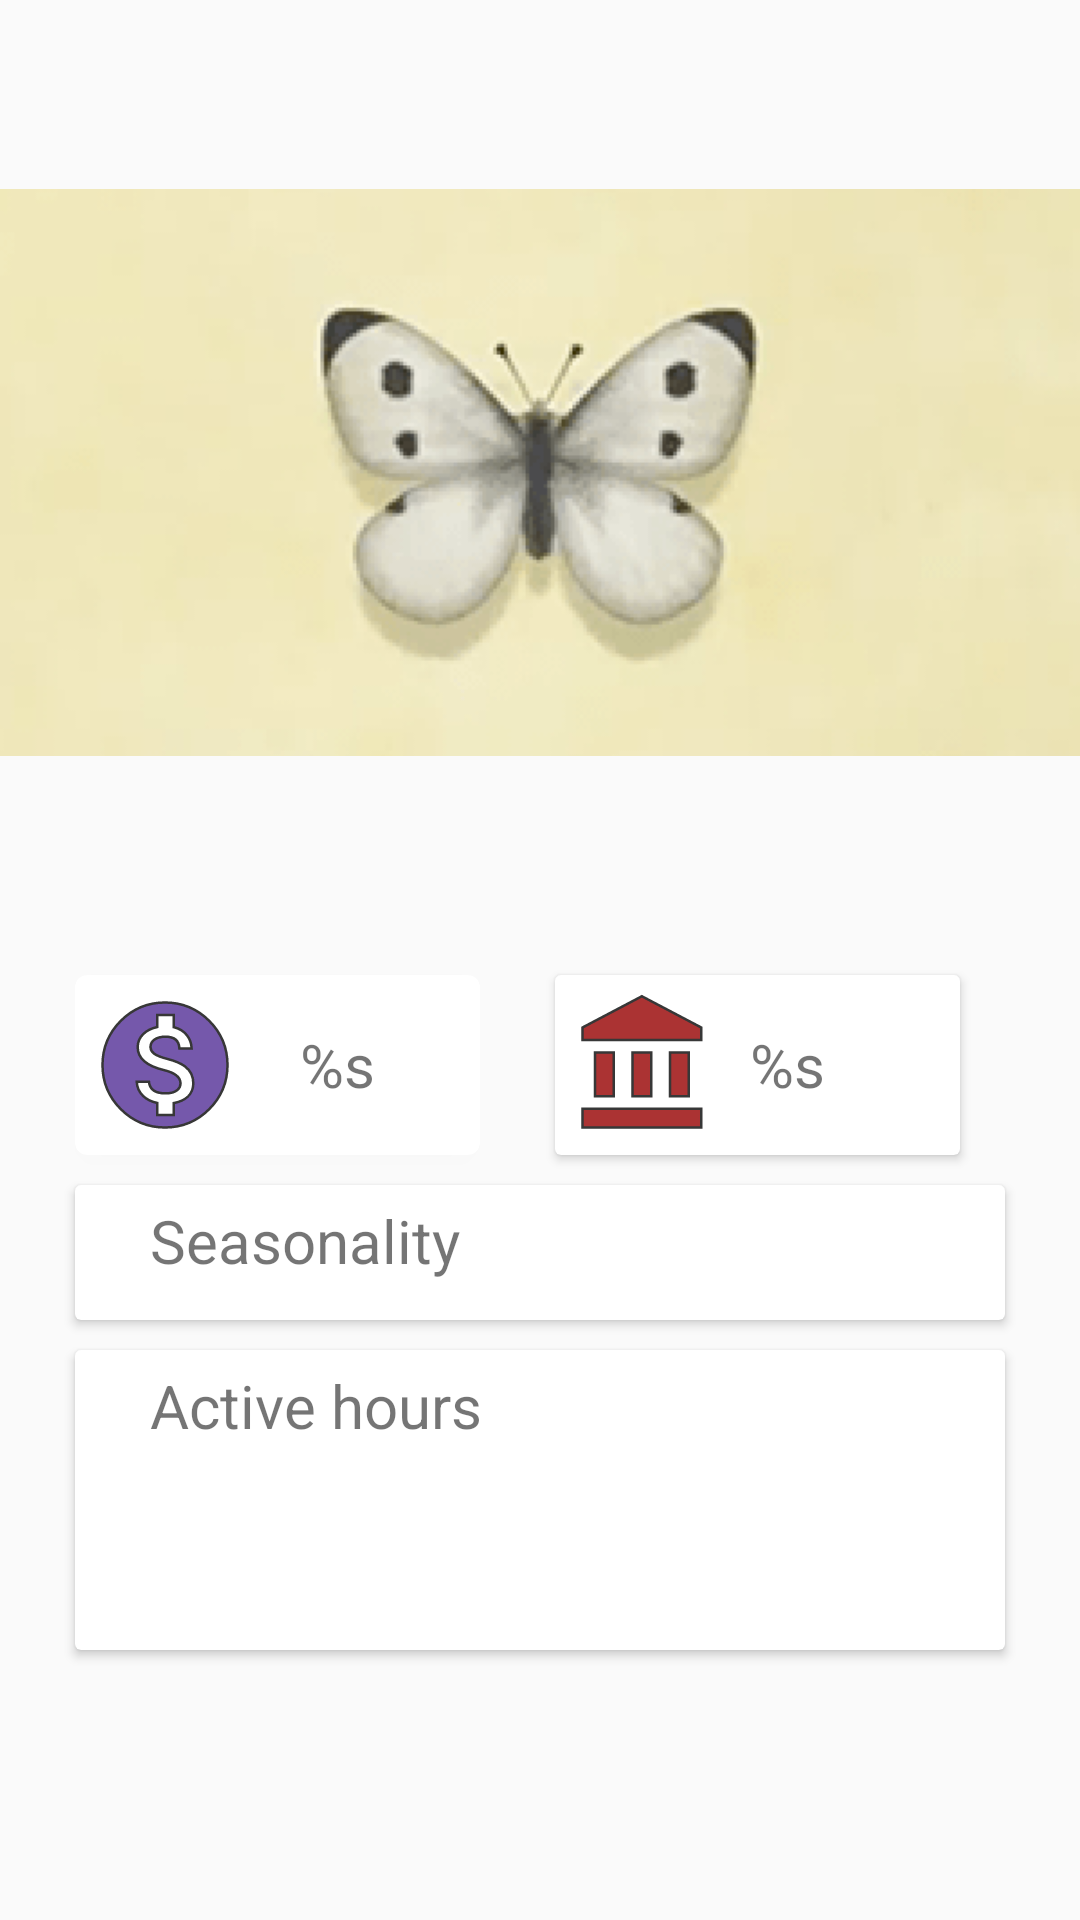

Screen size 1080*1920. Icon name, then its box in pixels as (x1, y1, x2, y2):
value: (101, 1001, 229, 1129)
